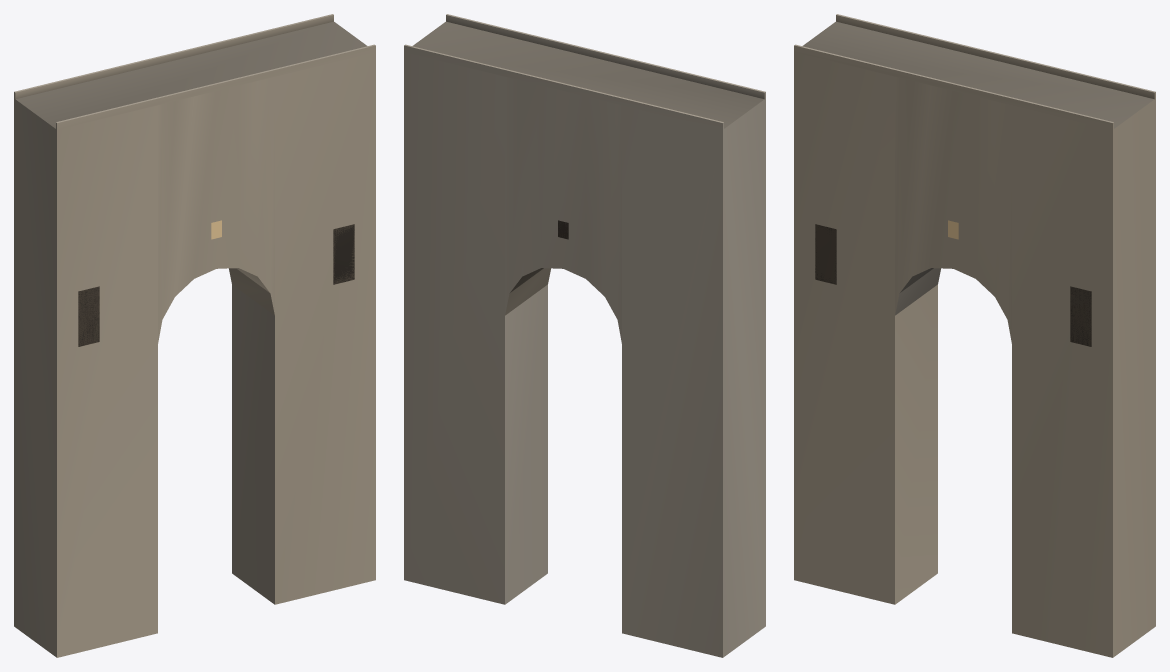
The model's file is gorge.glb.
3 renders of one model, left to right at view 1: azimuth 30°, elevation 25°; view 2: azimuth 150°, elevation 25°; view 3: azimuth 330°, elevation 25°, orthographic.
Parts seen in each view (by area): view 1: mass_bridge.001; view 2: mass_bridge.001; view 3: mass_bridge.001.
Part boxes in pixels (<box>): mass_bridge.001: <box>14,14,375,657</box>; mass_bridge.001: <box>404,14,765,657</box>; mass_bridge.001: <box>794,14,1155,657</box>.
Bounding box in the file's own units: 60 × 96.2 × 14.04.
